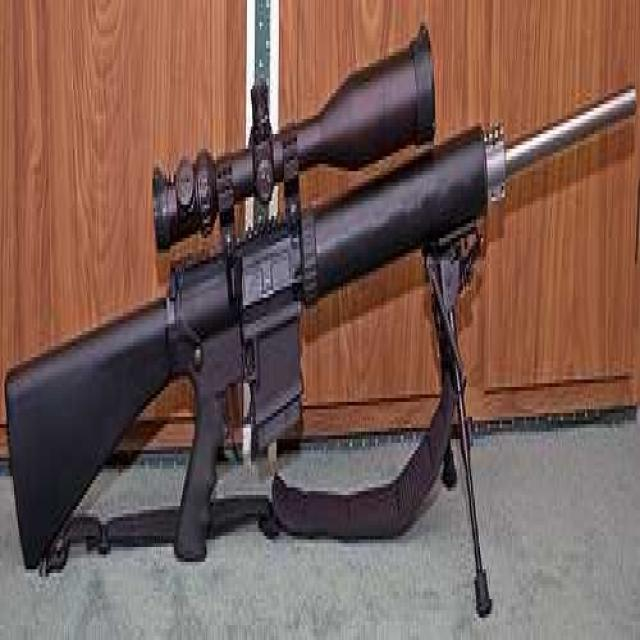RifleTel: (3, 6, 638, 615)
